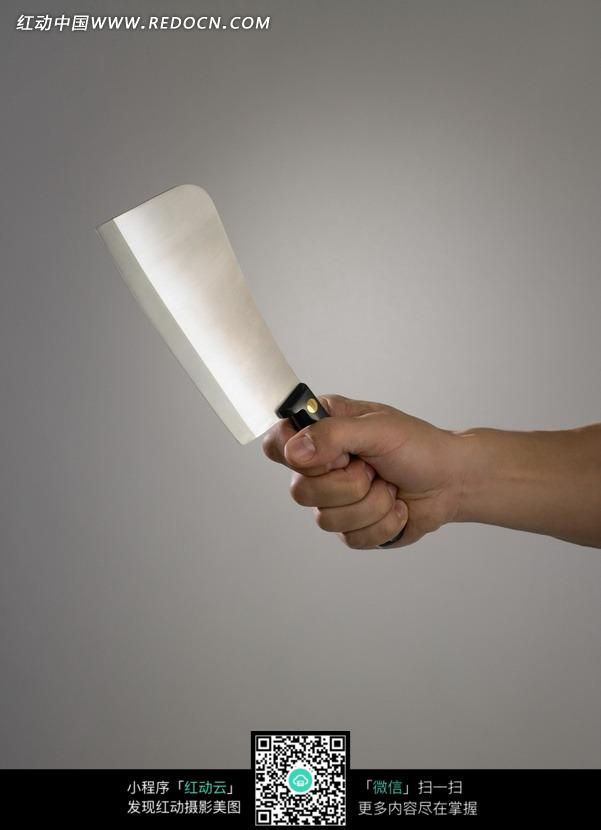knief: (82, 176, 414, 560)
